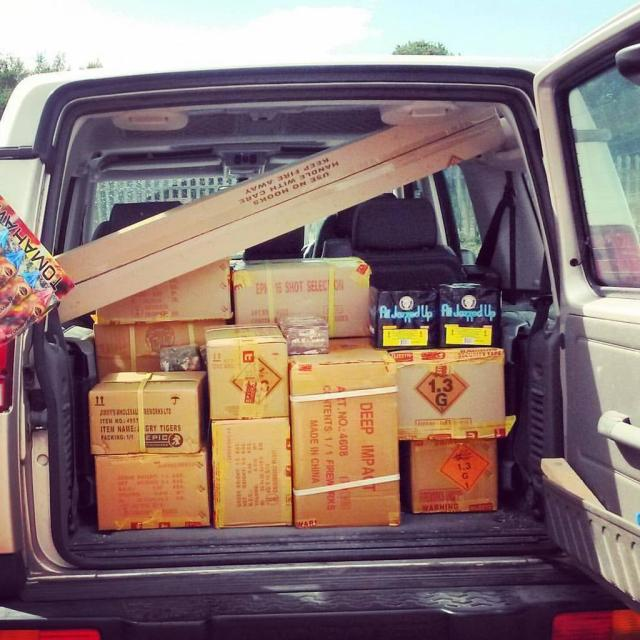Box: (51, 102, 523, 532), (204, 322, 291, 415)
